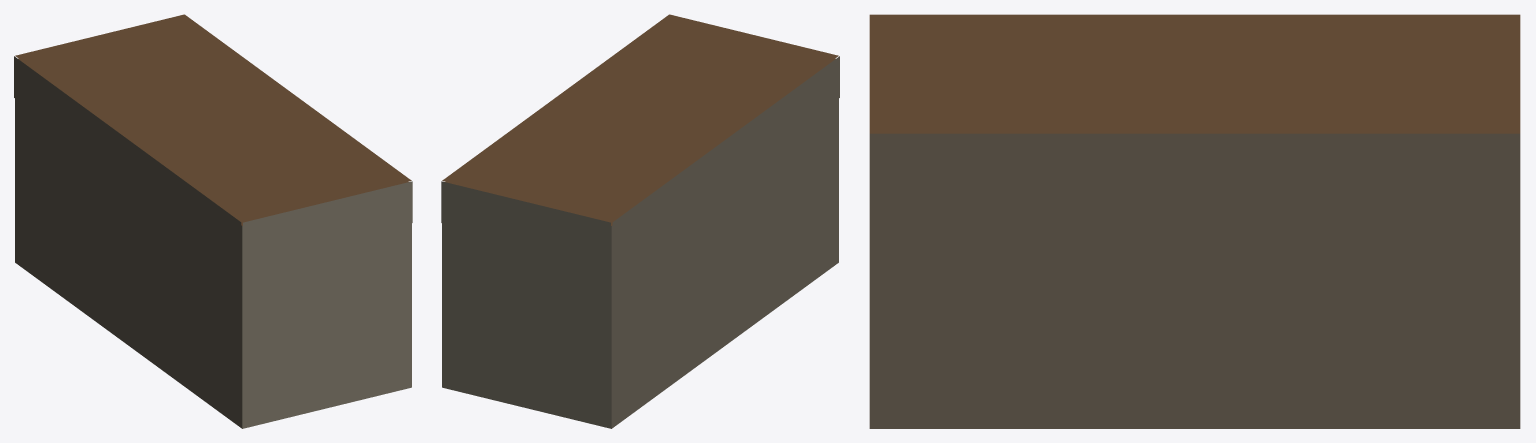
Rendered from fort-cellar-stair.far-facades-v3.lod2.glb.
3 views of the same model, side by side, from view 1: azimuth 30°, elevation 25°; view 2: azimuth 150°, elevation 25°; view 3: azimuth 270°, elevation 25° (orthographic). The views are drawn at different scales.
Parts seen in each view (by area): view 1: fort-cellar-stair; view 2: fort-cellar-stair; view 3: fort-cellar-stair.
Part boxes in pixels (<box>): fort-cellar-stair: <box>14,14,412,428</box>; fort-cellar-stair: <box>441,14,839,428</box>; fort-cellar-stair: <box>869,14,1520,428</box>.
Size of the model in its own units: 2.83 by 3.26 by 6.53.
